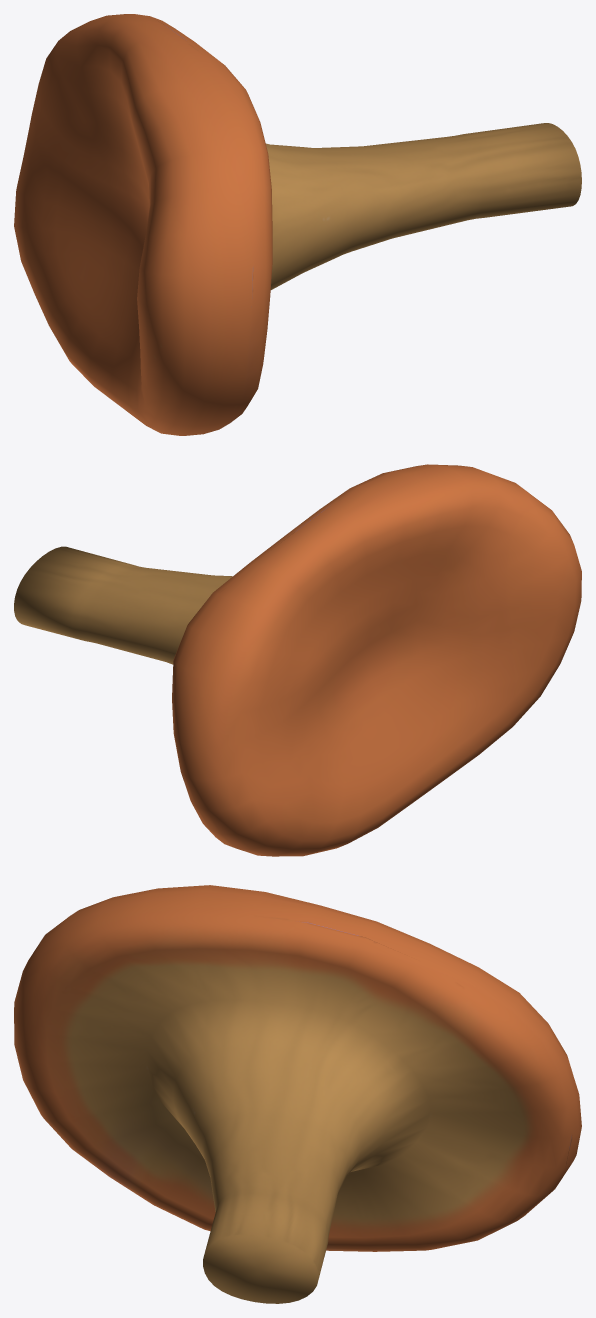
File: Explosão.fbx
3 renders of one model, top to bottom at view 1: azimuth 30°, elevation 25°; view 2: azimuth 150°, elevation 25°; view 3: azimuth 270°, elevation 25°, orthographic. The views are drawn at different scales.
Parts seen in each view (by area): view 1: CogumeloExplosao; view 2: CogumeloExplosao; view 3: CogumeloExplosao.
Part boxes in pixels (bbox=[...]): CogumeloExplosao: bbox=[14, 14, 581, 435]; CogumeloExplosao: bbox=[14, 464, 581, 856]; CogumeloExplosao: bbox=[14, 885, 581, 1303].
Bounding box in the file's own units: 196 × 130 × 195.
